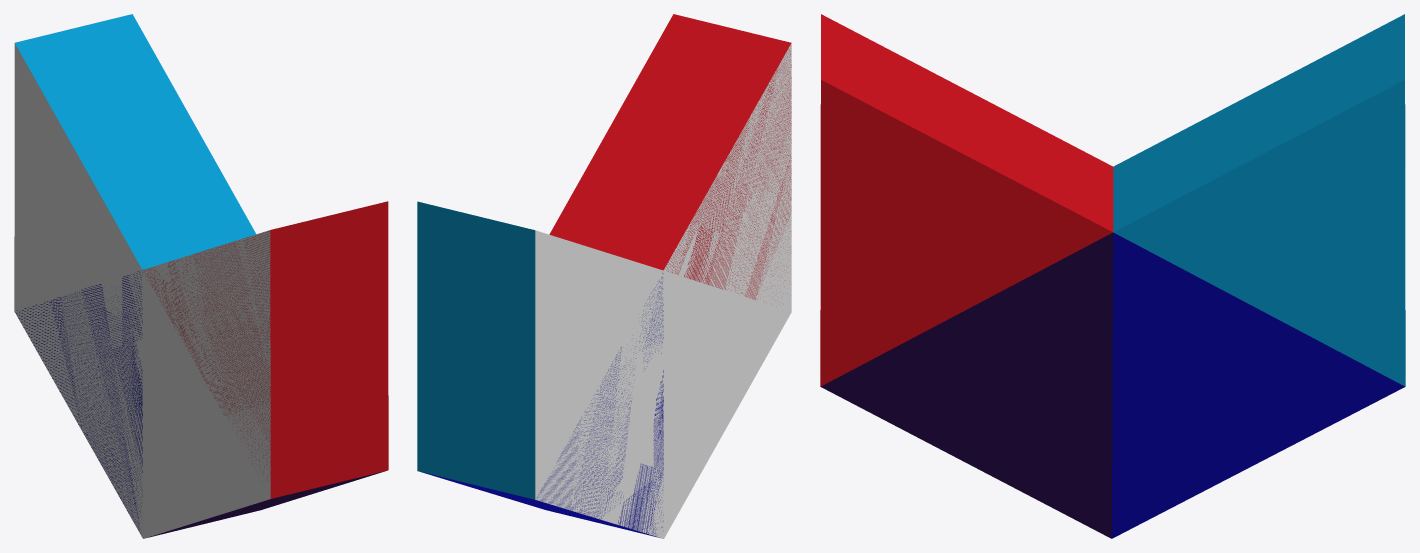
Rendered from jct.obj.
3 renders of one model, left to right at view 1: azimuth 30°, elevation 25°; view 2: azimuth 150°, elevation 25°; view 3: azimuth 270°, elevation 25°, orthographic. The views are drawn at different scales.
Parts seen in each view (by area): view 1: Cube.000_Cube.005; view 2: Cube.000_Cube.005; view 3: Cube.000_Cube.005.
Boxes of the visible parts, <box> form: Cube.000_Cube.005: <box>14,14,388,538</box>; Cube.000_Cube.005: <box>417,14,791,538</box>; Cube.000_Cube.005: <box>820,14,1405,538</box>.
Size of the model in its own units: 105 by 342 by 395.
